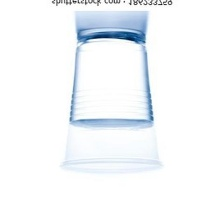glass: (54, 23, 168, 182)
